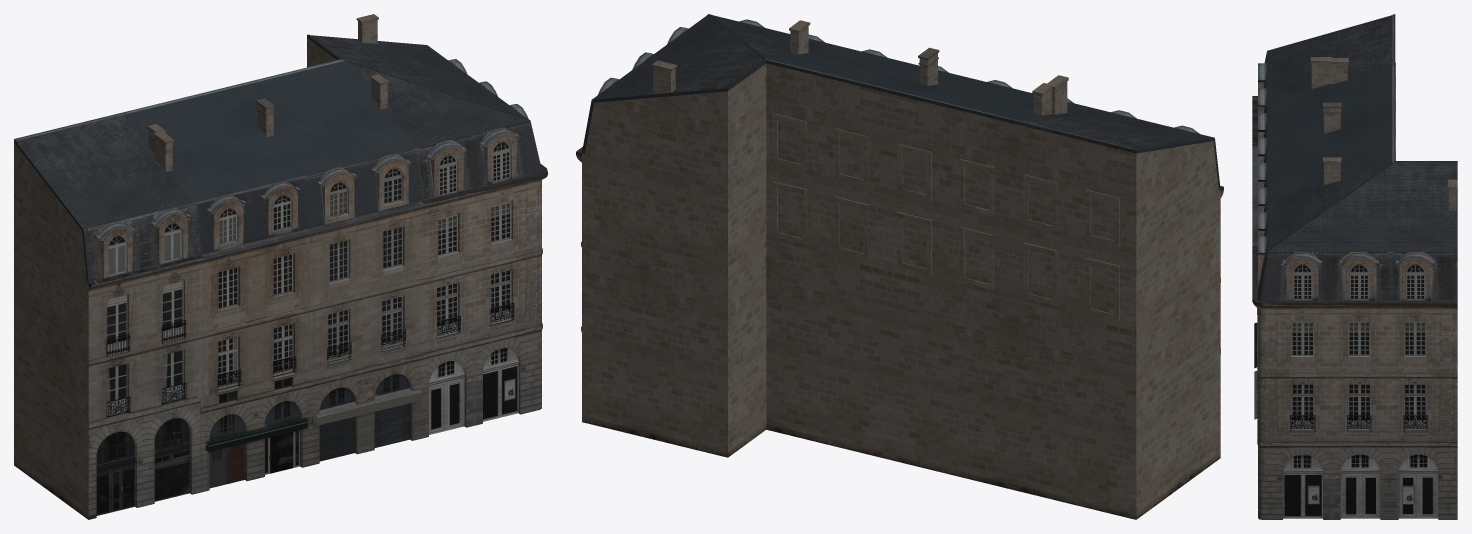
The model's file is immeuble_bordeaux_pierre_arcades.glb.
The picture shows the model from 3 angles, left to right: view 1: azimuth 30°, elevation 25°; view 2: azimuth 150°, elevation 25°; view 3: azimuth 270°, elevation 25°; orthographic projection. The views are drawn at different scales.
Visible parts, largest first — view 1: immeuble_bordeaux_pierre_arcades; view 2: immeuble_bordeaux_pierre_arcades; view 3: immeuble_bordeaux_pierre_arcades.
Boxes of the visible parts, x1,y1,x2,y2 form: immeuble_bordeaux_pierre_arcades: [14, 14, 547, 519]; immeuble_bordeaux_pierre_arcades: [576, 14, 1223, 519]; immeuble_bordeaux_pierre_arcades: [1252, 14, 1457, 519].
Bounding box in the file's own units: 26.8 × 18.58 × 11.21.
1 material, 1 textured.
